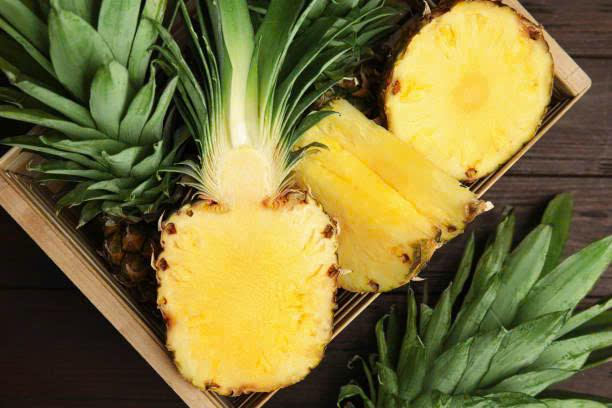pineapple: (155, 44, 341, 380), (5, 3, 165, 286), (297, 87, 475, 272), (393, 245, 593, 408), (393, 0, 567, 164)
